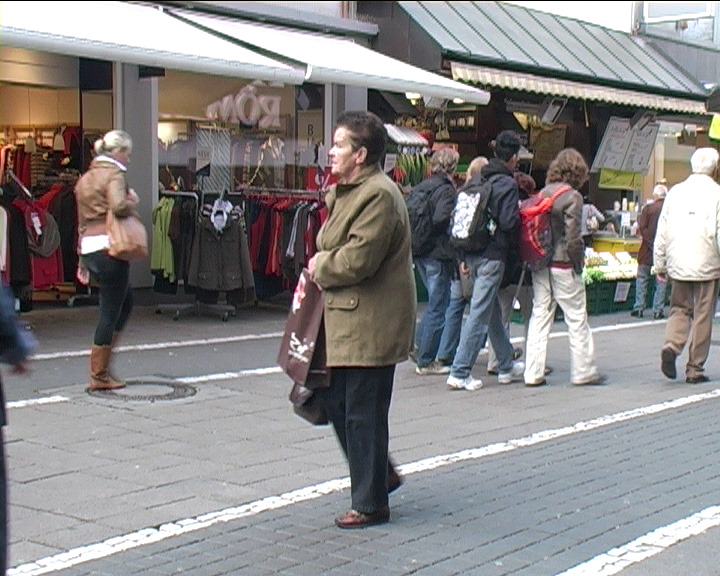undeflect: (321, 117, 408, 221)
